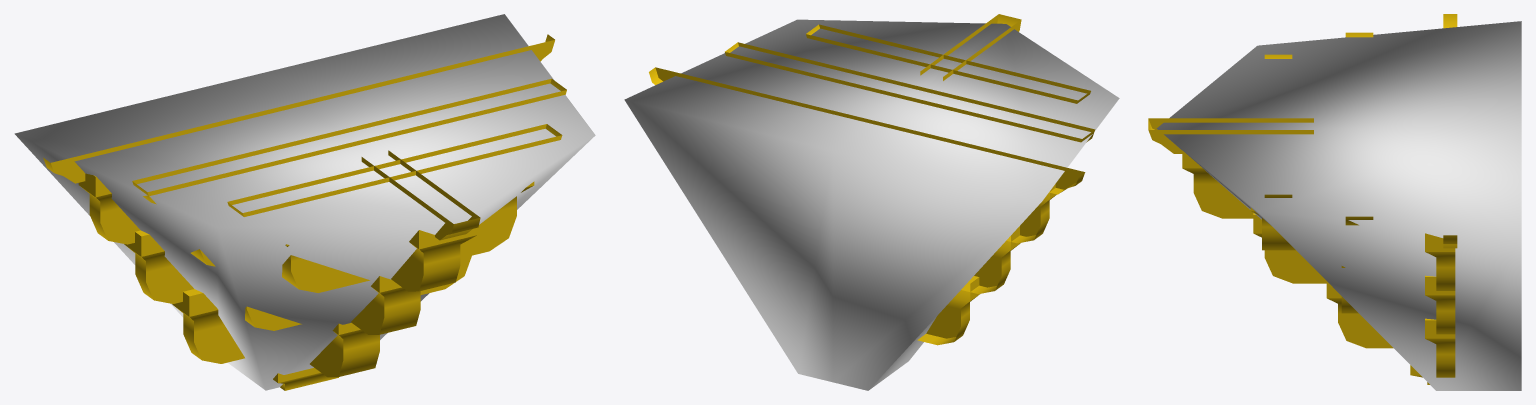
File: Column_A_Kumimono_03.fbx
3 renders of one model, left to right at view 1: azimuth 30°, elevation 25°; view 2: azimuth 150°, elevation 25°; view 3: azimuth 270°, elevation 25°, orthographic. The views are drawn at different scales.
Visible parts, largest first — view 1: C_Column_A_Kumimono_03, Column_A_Kumimono_03; view 2: C_Column_A_Kumimono_03, Column_A_Kumimono_03; view 3: C_Column_A_Kumimono_03, Column_A_Kumimono_03.
Part boxes in pixels (x1,y1,x2,y2): C_Column_A_Kumimono_03: (14, 14, 595, 390); Column_A_Kumimono_03: (43, 34, 566, 390); C_Column_A_Kumimono_03: (624, 19, 1119, 390); Column_A_Kumimono_03: (649, 14, 1095, 345); C_Column_A_Kumimono_03: (1156, 21, 1521, 390); Column_A_Kumimono_03: (1148, 14, 1457, 384).
Bounding box in the file's own units: 2.21 × 1.16 × 1.58.
